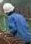hard-hat: (1, 1, 13, 12)
ppe-suit: (16, 22, 31, 44)
